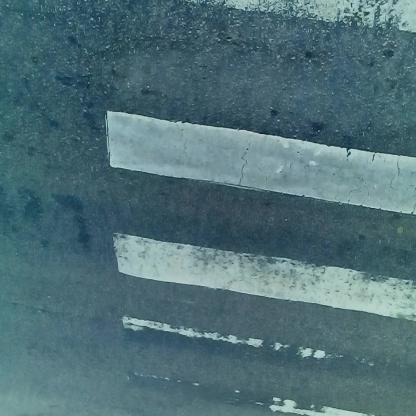crosswalk: (106, 2, 416, 415)
